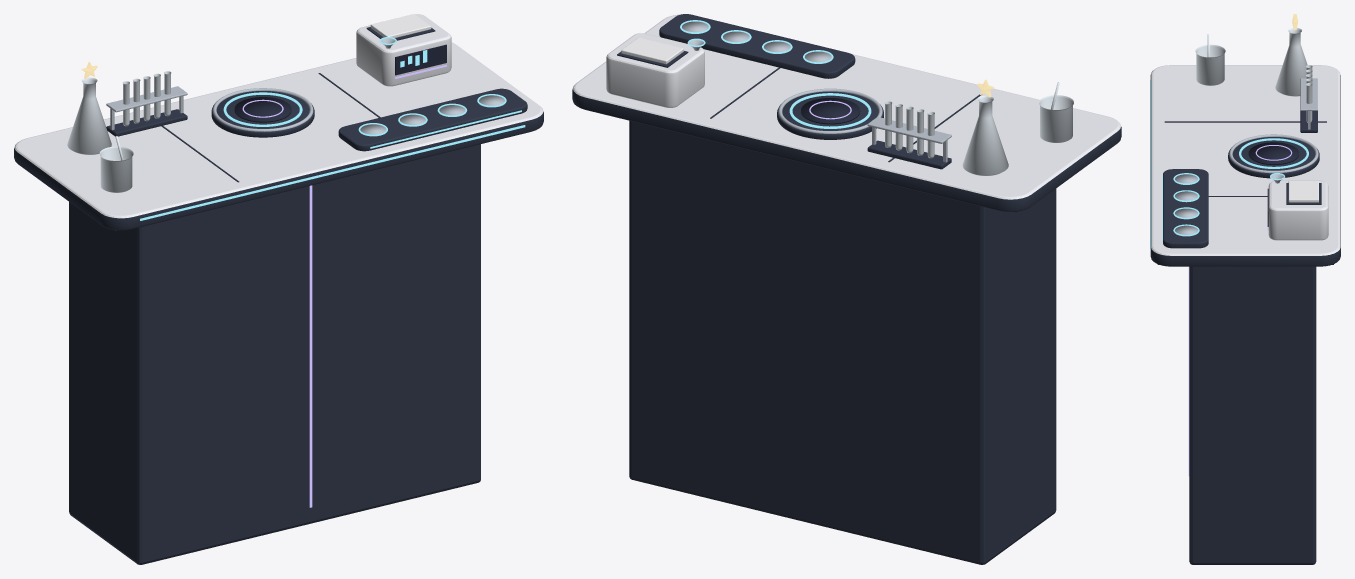
Rendered from dock.glb.
The picture shows the model from 3 angles, left to right: view 1: azimuth 30°, elevation 25°; view 2: azimuth 150°, elevation 25°; view 3: azimuth 270°, elevation 25°; orthographic projection. The views are drawn at different scales.
Visible parts, largest first — view 1: DockColumn, DockDeck, DockReader, DockTray, DockEmitter, DockFlask, DockRack, DockTubes, DockBeaker; view 2: DockColumn, DockDeck, DockReader, DockTray, DockEmitter, DockFlask, DockRack, DockTubes, DockBeaker; view 3: DockColumn, DockDeck, DockReader, DockTray, DockEmitter, DockFlask, DockBeaker, DockRack, DockTubes.
Boxes of the visible parts, x1,y1,x2,y2 form: DockColumn: (69,144,480,564); DockDeck: (14,42,543,230); DockReader: (356,14,451,86); DockTray: (338,88,527,151); DockEmitter: (211,88,314,137); DockFlask: (67,77,111,154); DockRack: (106,86,187,136); DockTubes: (122,71,171,126); DockBeaker: (99,146,133,192); DockColumn: (629,120,1056,564); DockDeck: (572,14,1121,212); DockReader: (606,33,705,107); DockTray: (659,14,855,78); DockEmitter: (777,88,883,139); DockFlask: (962,95,1008,175); DockRack: (867,117,951,169); DockTubes: (884,101,934,158); DockBeaker: (1039,95,1073,142); DockColumn: (1188,266,1316,564); DockDeck: (1150,65,1340,266); DockReader: (1267,173,1328,240); DockTray: (1162,169,1208,248); DockEmitter: (1228,134,1319,178); DockFlask: (1275,27,1307,96); DockBeaker: (1195,44,1225,85); DockRack: (1300,78,1317,132); DockTubes: (1306,65,1312,122).
Size of the model in its own units: 1.28 by 1.28 by 0.5415.
